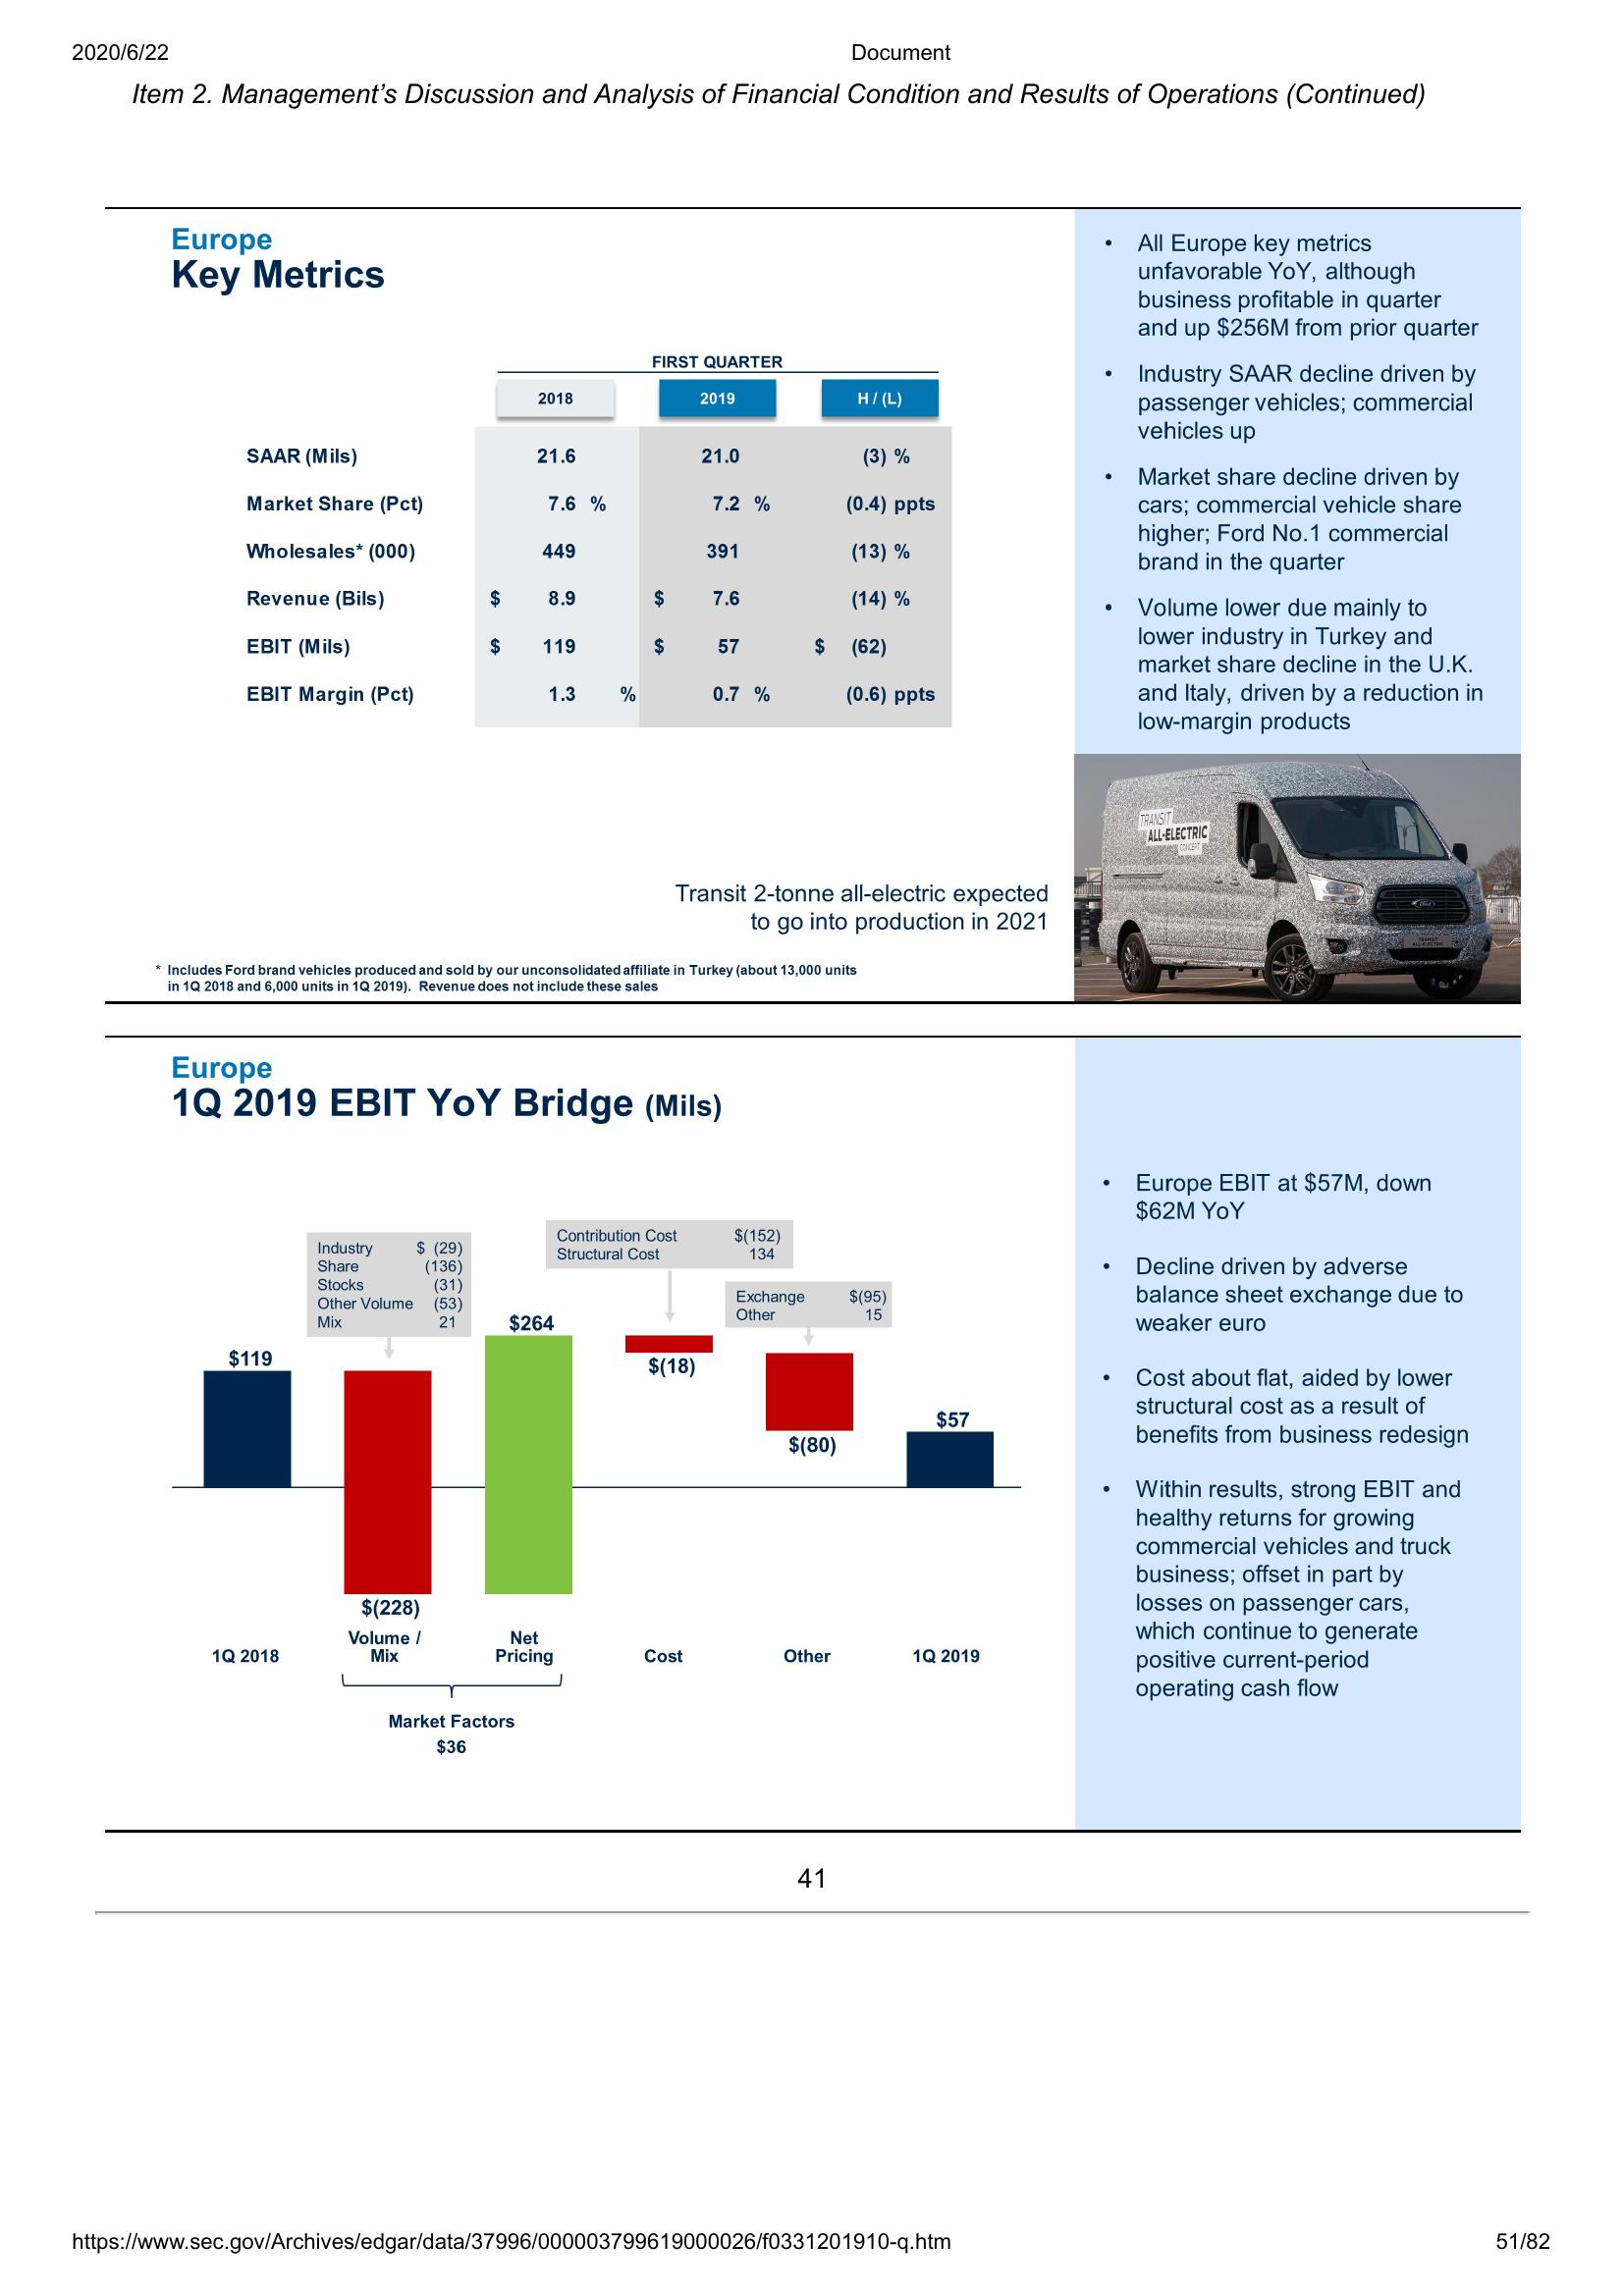table: (235, 342, 954, 727)
